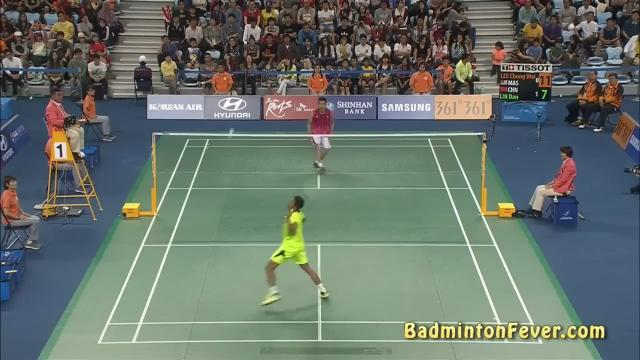Shuttlecock: (224, 128, 236, 138)
